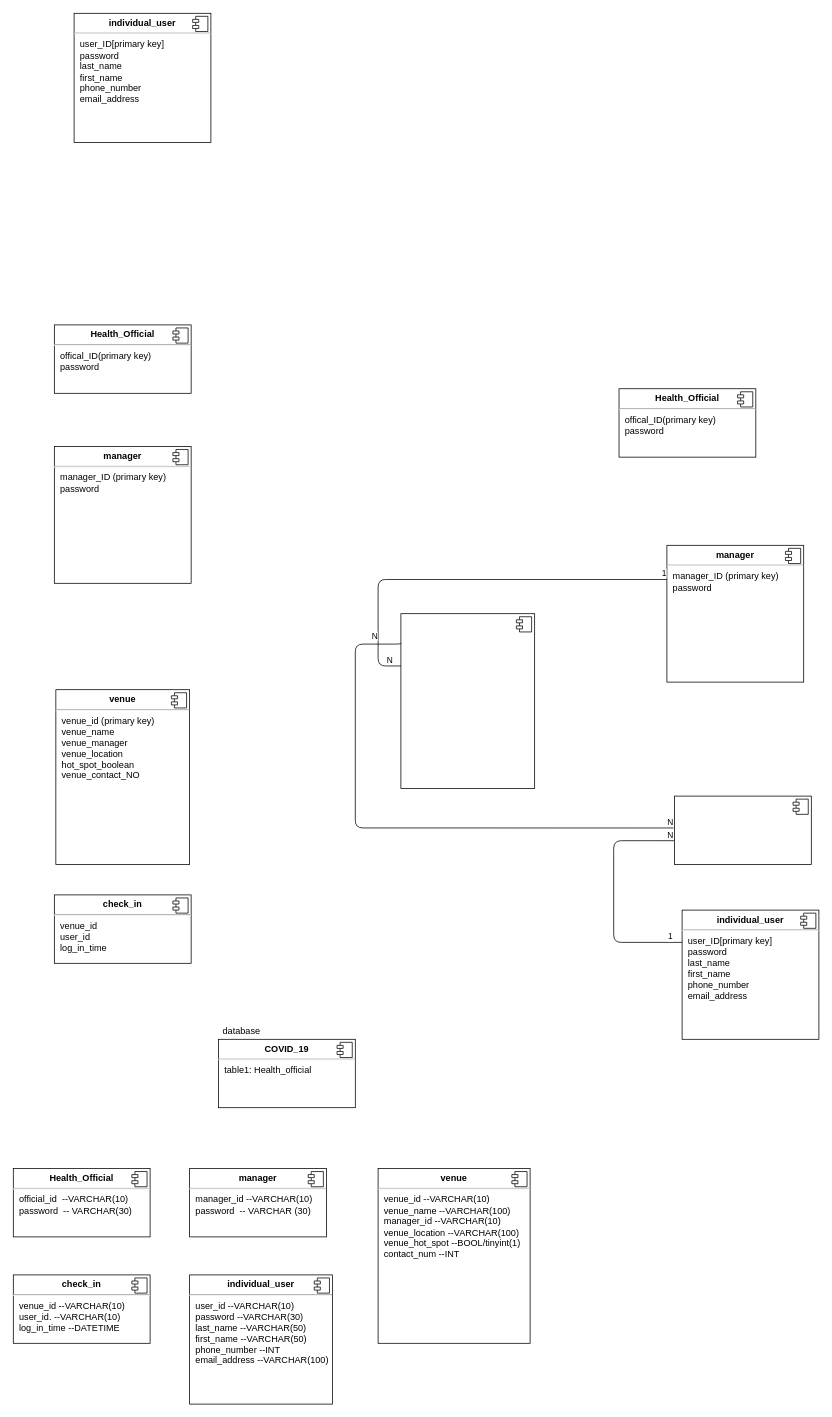
Some shapes in this 832 by 1417 pixel diagram are drawn without their labels. Each missing label, with the centre of its shape:
"check_in shop_id user_id log_in_time" belongs at (742,829).
"shop shop_id (primary key) shop_name manager_id shop_location hot_spot_boolean" belongs at (467,700).
